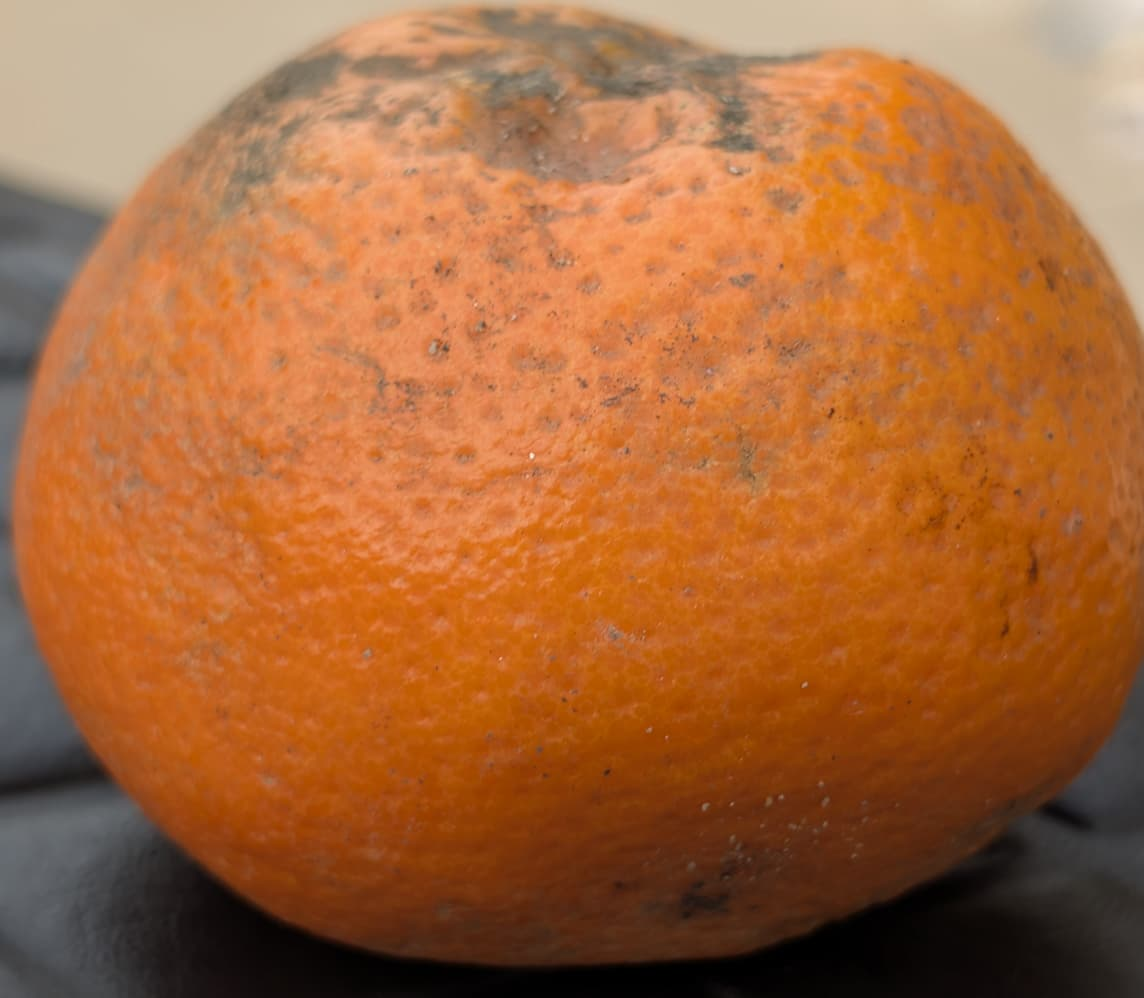orange: (114, 135, 1133, 918)
